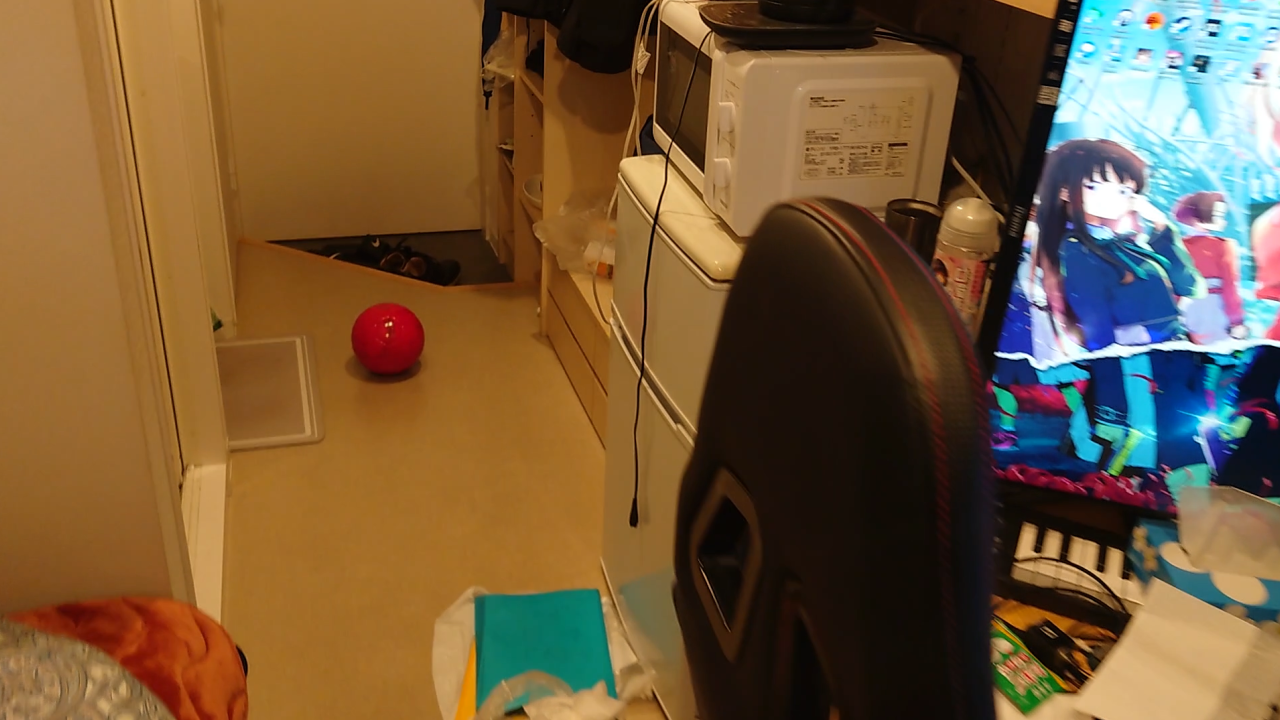red: (348, 304, 425, 376)
